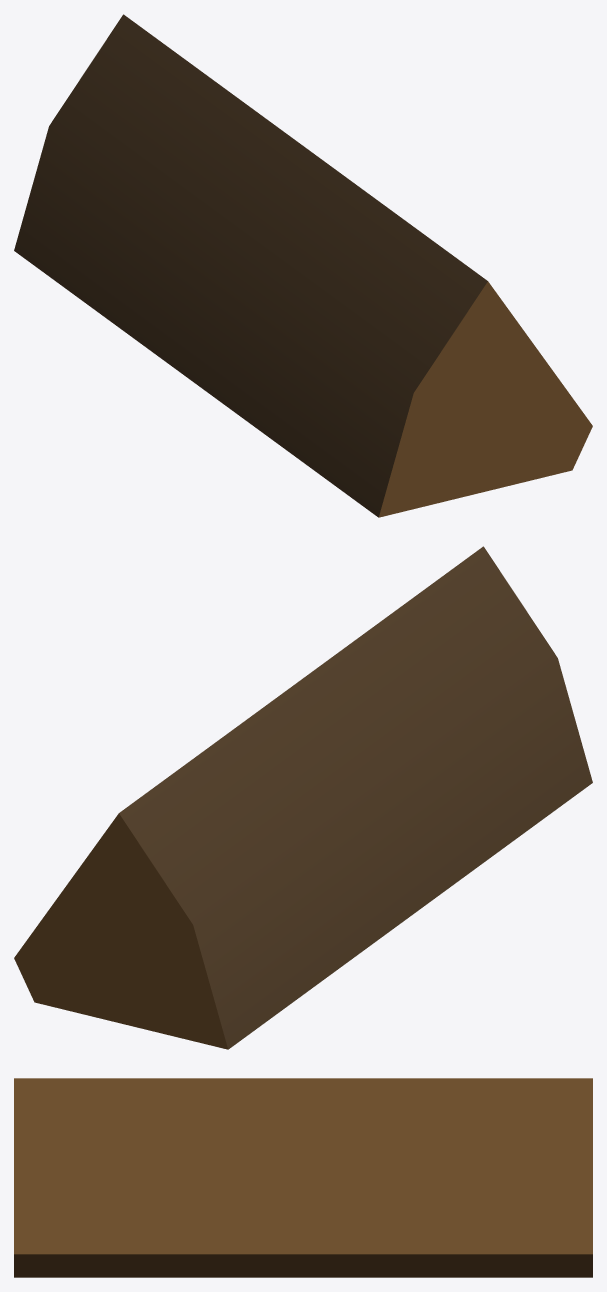
File: Firewood.glb
3 renders of one model, top to bottom at view 1: azimuth 30°, elevation 25°; view 2: azimuth 150°, elevation 25°; view 3: azimuth 270°, elevation 25°, orthographic. The views are drawn at different scales.
Visible parts, largest first — view 1: Firewood.001; view 2: Firewood.001; view 3: Firewood.001.
Boxes of the visible parts, left/top/right/bottom form: Firewood.001: left=14, top=14, right=592, bottom=517; Firewood.001: left=14, top=546, right=592, bottom=1049; Firewood.001: left=14, top=1078, right=592, bottom=1277.
Bounding box in the file's own units: 0.2898 × 0.2712 × 0.8543.
Materials: 1 (1 with a texture image).
